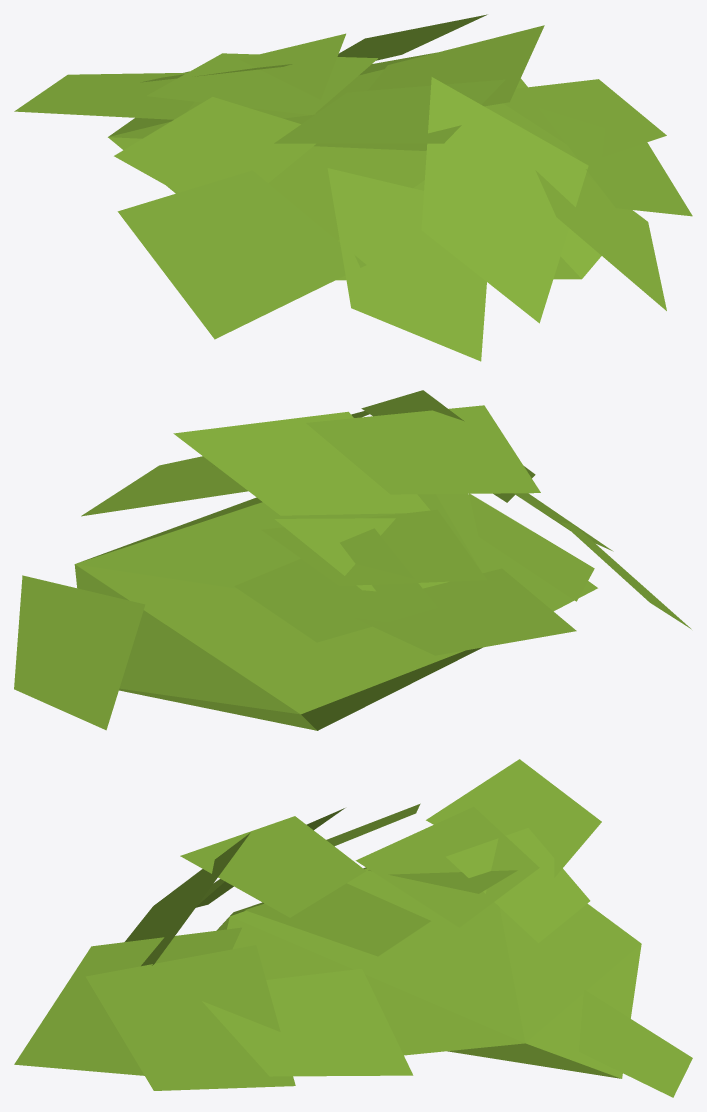
Rendered from SM_Leaves_Bunch_C.fbx.
The picture shows the model from 3 angles, top to bottom: view 1: azimuth 30°, elevation 25°; view 2: azimuth 150°, elevation 25°; view 3: azimuth 270°, elevation 25°; orthographic projection. The views are drawn at different scales.
Parts seen in each view (by area): view 1: leaves-bunch-c; view 2: leaves-bunch-c; view 3: leaves-bunch-c.
Boxes of the visible parts, box(x1,y1,x2,y2) form: leaves-bunch-c: box(14, 14, 692, 361); leaves-bunch-c: box(14, 390, 691, 730); leaves-bunch-c: box(14, 759, 692, 1097).
Size of the model in its own units: 0.5422 by 0.1998 by 0.6018.
